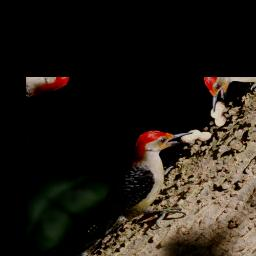Woodpecker: (64, 113, 241, 256)
